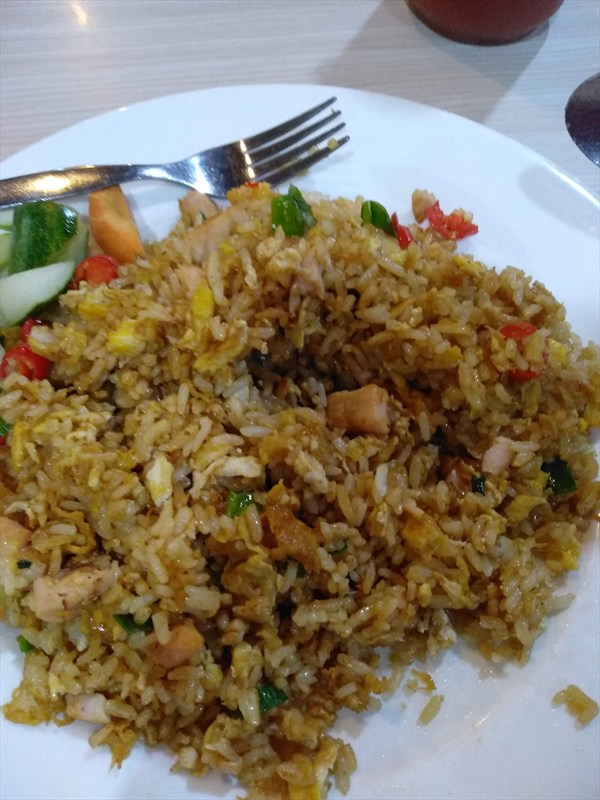Nasi Goreng: (43, 185, 527, 708)
